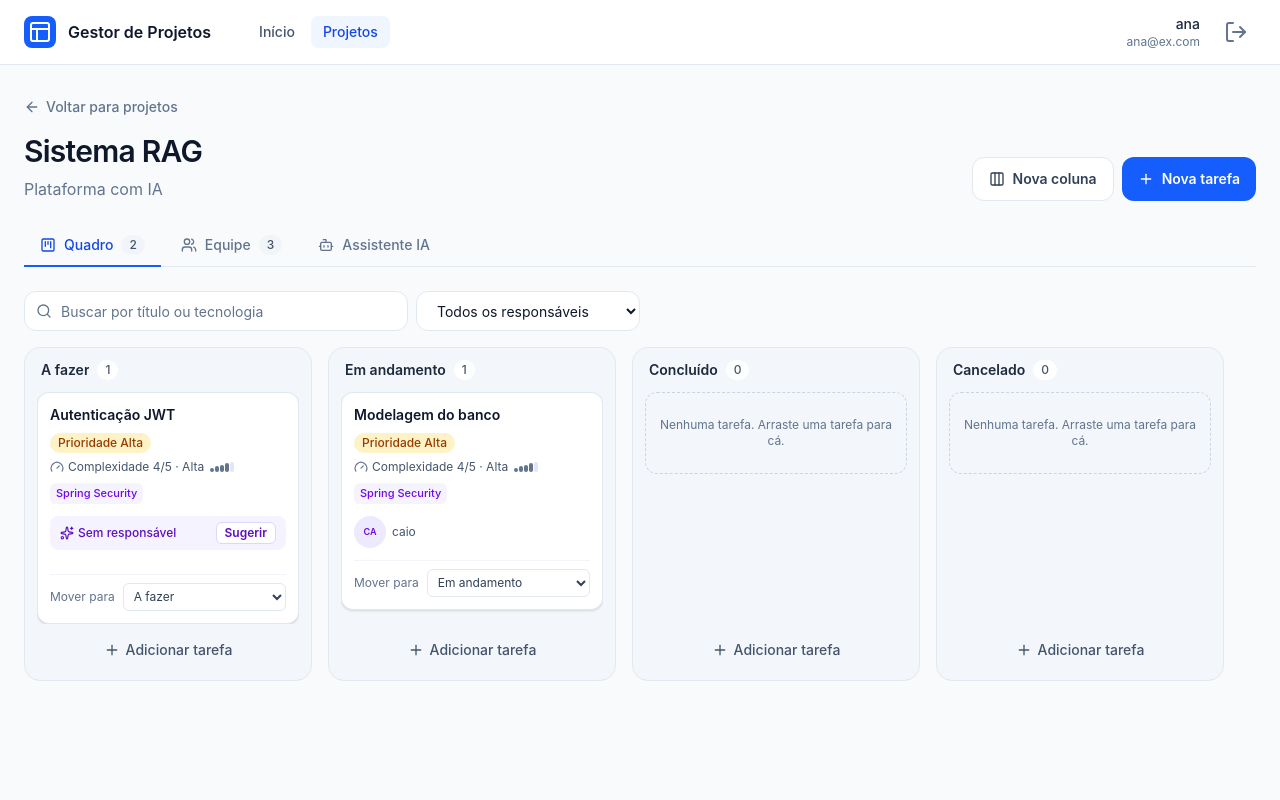
Scenario: Recomendação de responsáveis › mostra o aviso do servidor quando o ranking vem sem síntese do modelo
Step 1. Click the button named "Sugerir responsável para \"Autenticação JWT\"" → (246, 532), box [216,522,276,544]
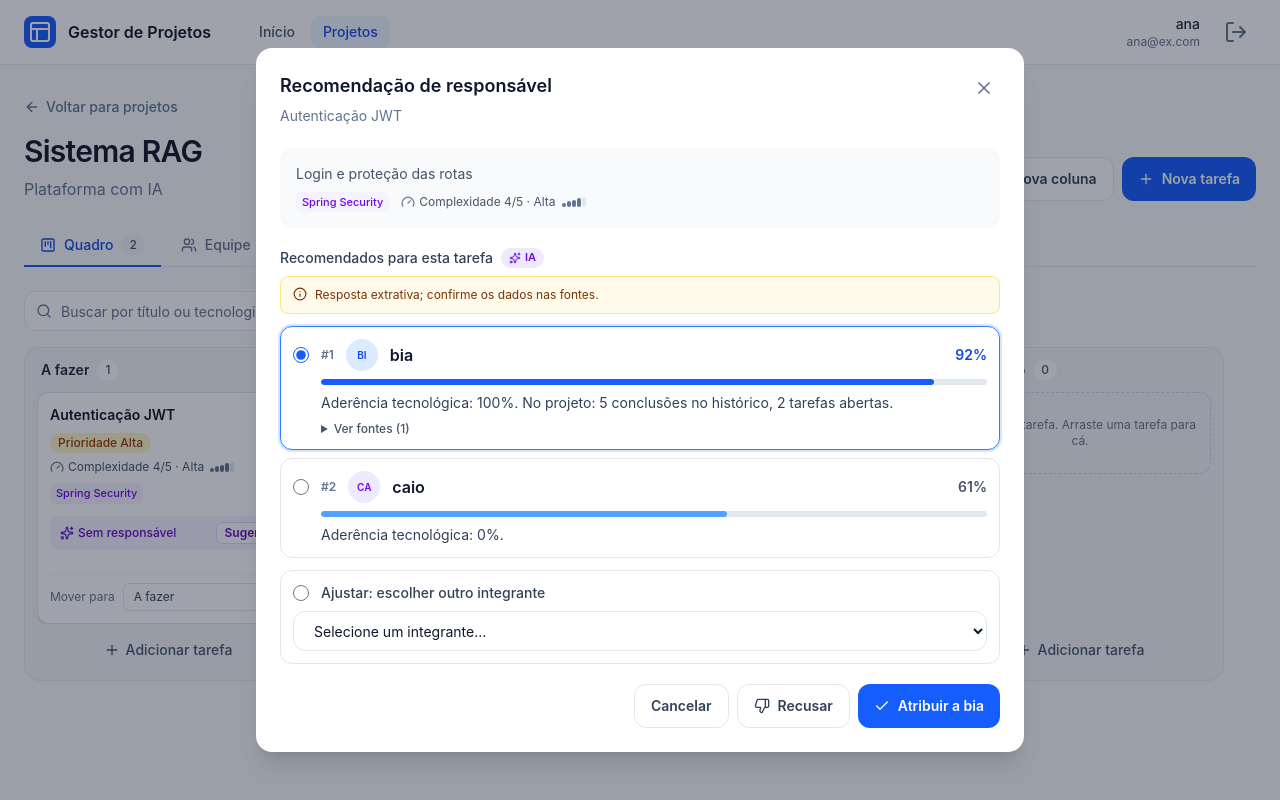
expect the element showing "Resposta extrativa; confirme os dados nas fontes." is shown: met, box [280,276,1000,314]
